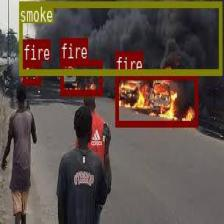fire: (115, 73, 197, 126), (60, 60, 102, 94), (22, 61, 40, 83)
smoke: (19, 1, 222, 74)
